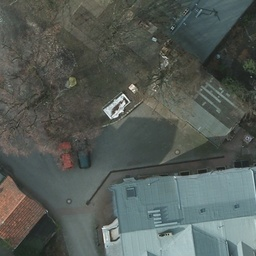car: (75, 137, 93, 171), (57, 140, 73, 170)
